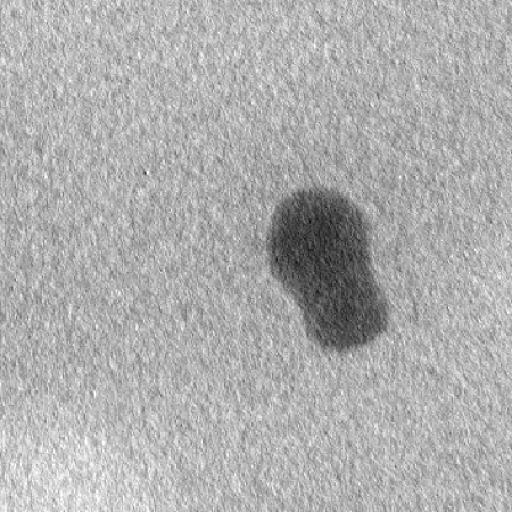Nanoparticles: (264, 183, 372, 290), (298, 266, 391, 352)
